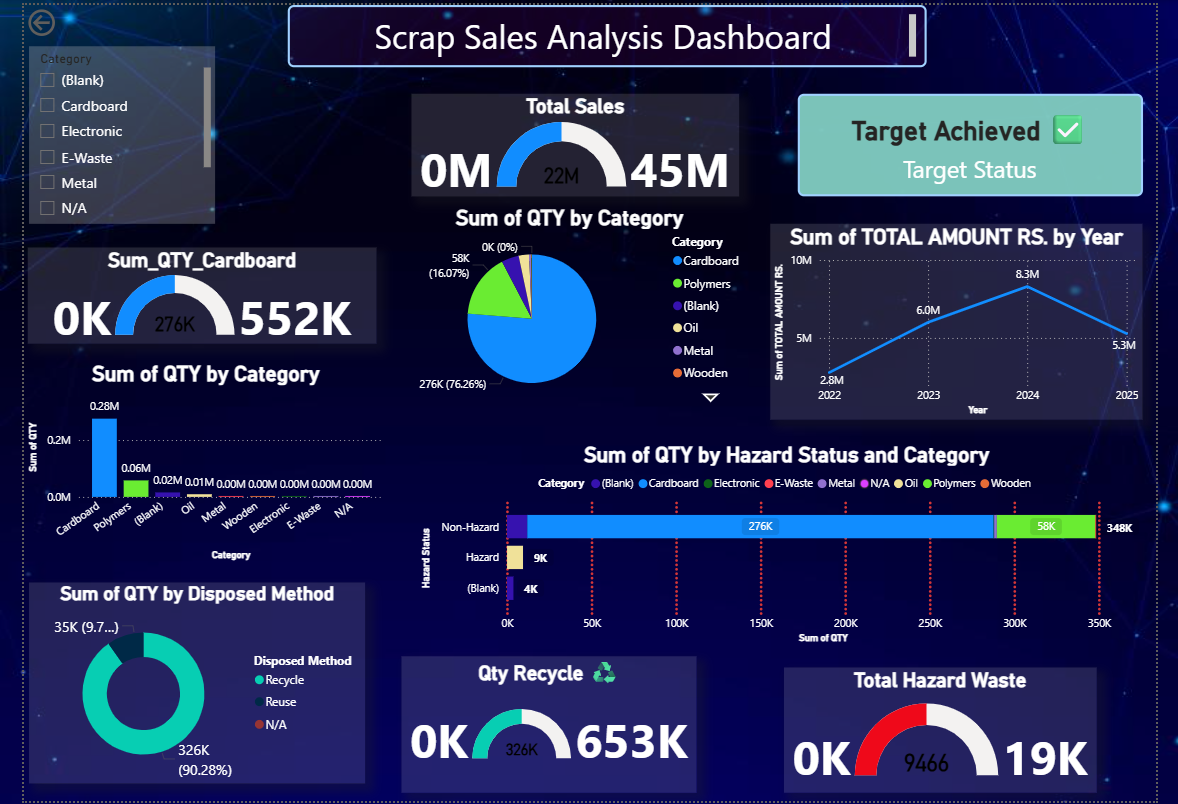

The dashboard page shown, as its layout file describes it:
{"tool":"powerbi","page":{"name":"Page 1","canvas":[1280,900],"ordinal":0},"visuals":[{"type":"donutChart","fields":{"Category":["Scrap_Sale1.Disposed Method"],"Y":["Sum(Scrap_Sale1.QTY)"]},"box":[5.7,653,380.2,227.5],"z":0},{"type":"lineChart","fields":{"Category":["Scrap_Sale1.INVOICE DATE.Variation.Date Hierarchy.Year"],"Y":["Sum(Scrap_Sale1.TOTAL AMOUNT RS.)"]},"box":[843.8,247.3,421.2,221.9],"z":1000},{"type":"barChart","fields":{"Y":["Sum(Scrap_Sale1.QTY)"],"Category":["Scrap_Sale1.Hazard Status"],"Series":["Scrap_Sale1.Category"]},"box":[438.1,489,842.3,237.4],"z":2000},{"type":"gauge","fields":{"Y":["Item_Codes2.Total Hazard Waste"]},"box":[859.3,749.1,353.3,141.3],"z":3000},{"type":"gauge","fields":{"Y":["Scrap_Sale1.Sum_QTY_Cardboard"]},"box":[4.2,274.2,394.3,108.8],"z":5000},{"type":"actionButton","box":[0,0,100,40],"z":6000},{"type":"card","fields":{"Values":["Scrap_Sale1.Target Status"]},"box":[874.8,100.3,390.1,115.9],"z":7000},{"type":"gauge","fields":{"Y":["Scrap_Sale1.Qty Recycle ♻️"]},"box":[426.8,736.3,333.5,154.1],"z":8000},{"type":"textbox","box":[298.2,0,722.2,70.7],"z":9000},{"type":"slicer","fields":{"Values":["Scrap_Sale1.Category"]},"box":[5.7,46.6,210.6,200.7],"z":10000},{"type":"clusteredColumnChart","fields":{"Category":["Scrap_Sale1.Category"],"Y":["Sum(Scrap_Sale1.QTY)"]},"box":[0,402.8,411.3,230.4],"z":11000},{"type":"pieChart","fields":{"Category":["Scrap_Sale1.Category"],"Y":["Sum(Scrap_Sale1.QTY)"]},"box":[411.3,226.1,411.3,230.4],"z":12000},{"type":"gauge","fields":{"Y":["Scrap_Sale1.Total Sales"]},"box":[438.1,100.3,370.3,115.9],"z":12001}]}

Visuals, with their boxes on the page's 1280x900 design canvas (x1, y1, x2, y2). These are canvas units, not pixel positions in the 1178x804 screenshot, which may show the page scaled, cropped or inside an application window:
donutChart - Scrap_Sale1.Disposed Method x Sum(Scrap_Sale1.QTY): {"x1": 6, "y1": 653, "x2": 386, "y2": 880}
lineChart - Scrap_Sale1.INVOICE DATE.Variation.Date Hierarchy.Year x Sum(Scrap_Sale1.TOTAL AMOUNT RS.): {"x1": 844, "y1": 247, "x2": 1265, "y2": 469}
barChart - Sum(Scrap_Sale1.QTY) x Scrap_Sale1.Hazard Status: {"x1": 438, "y1": 489, "x2": 1280, "y2": 726}
gauge - Item_Codes2.Total Hazard Waste: {"x1": 859, "y1": 749, "x2": 1213, "y2": 890}
gauge - Scrap_Sale1.Sum_QTY_Cardboard: {"x1": 4, "y1": 274, "x2": 398, "y2": 383}
actionButton: {"x1": 0, "y1": 0, "x2": 100, "y2": 40}
card - Scrap_Sale1.Target Status: {"x1": 875, "y1": 100, "x2": 1265, "y2": 216}
gauge - Scrap_Sale1.Qty Recycle ♻️: {"x1": 427, "y1": 736, "x2": 760, "y2": 890}
textbox: {"x1": 298, "y1": 0, "x2": 1020, "y2": 71}
slicer - Scrap_Sale1.Category: {"x1": 6, "y1": 47, "x2": 216, "y2": 247}
clusteredColumnChart - Scrap_Sale1.Category x Sum(Scrap_Sale1.QTY): {"x1": 0, "y1": 403, "x2": 411, "y2": 633}
pieChart - Scrap_Sale1.Category x Sum(Scrap_Sale1.QTY): {"x1": 411, "y1": 226, "x2": 823, "y2": 456}
gauge - Scrap_Sale1.Total Sales: {"x1": 438, "y1": 100, "x2": 808, "y2": 216}
